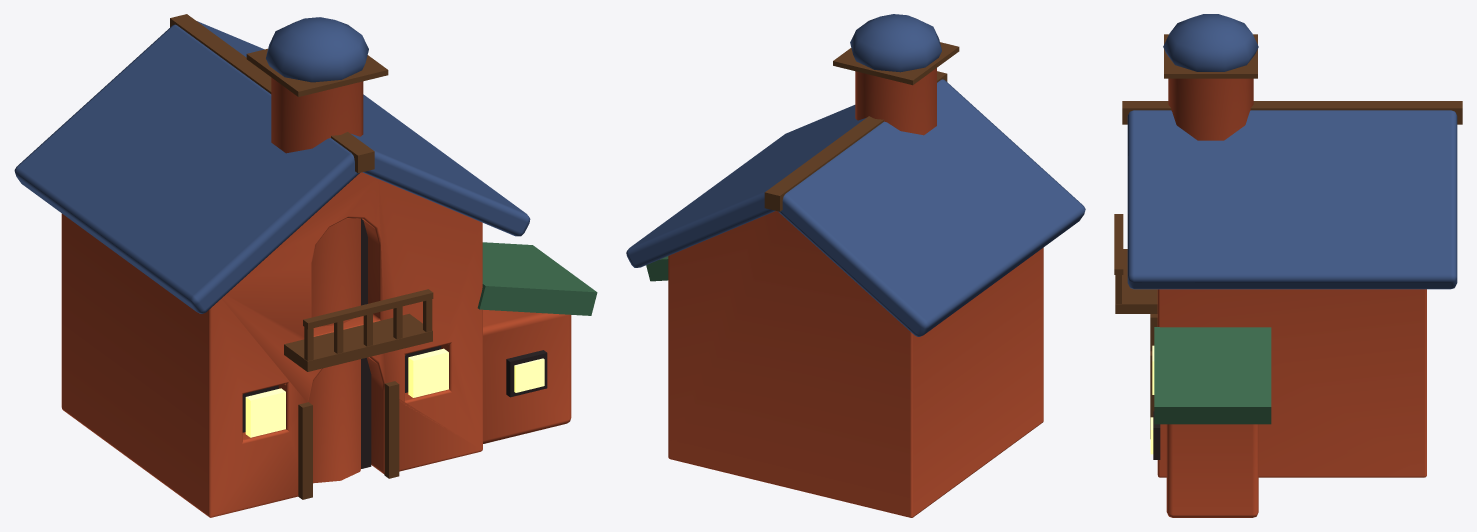
File: Buildings__mansion.glb
3 renders of one model, left to right at view 1: azimuth 30°, elevation 25°; view 2: azimuth 150°, elevation 25°; view 3: azimuth 270°, elevation 25°, orthographic. The views are drawn at different scales.
Visible parts, largest first — view 1: mansion_mesh; view 2: mansion_mesh; view 3: mansion_mesh.
Boxes of the visible parts, box(x1,y1,x2,y2) form: mansion_mesh: box(14, 14, 597, 517); mansion_mesh: box(626, 14, 1085, 517); mansion_mesh: box(1114, 14, 1462, 517).
Bounding box in the file's own units: 2.47 × 2.48 × 1.96.
